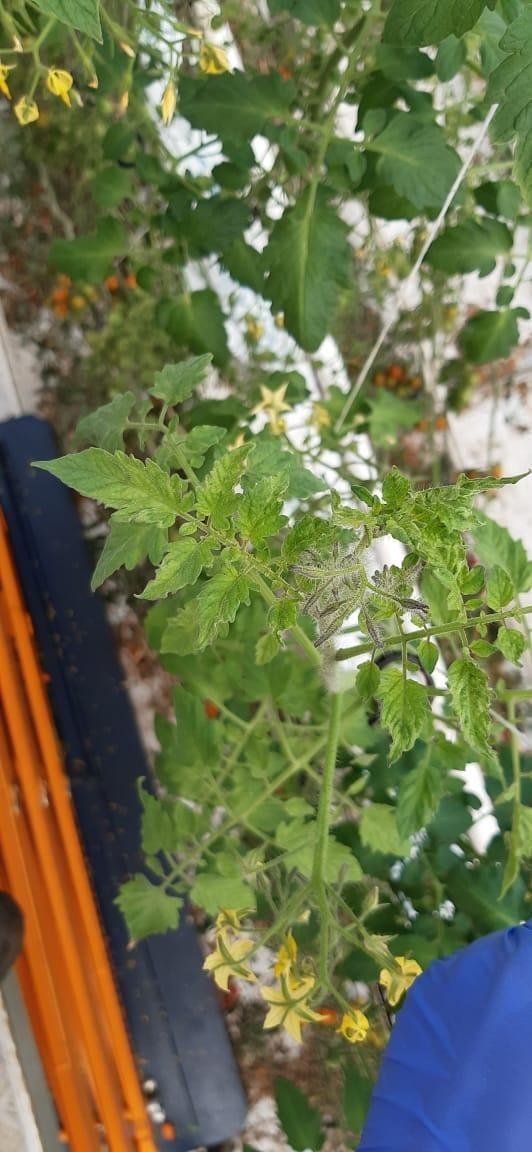Rugose leaf: (34, 447, 189, 527), (416, 474, 503, 531), (378, 667, 429, 760), (401, 515, 464, 589), (140, 536, 212, 599), (196, 443, 248, 530), (448, 655, 489, 754), (232, 476, 286, 545), (281, 514, 336, 569)
